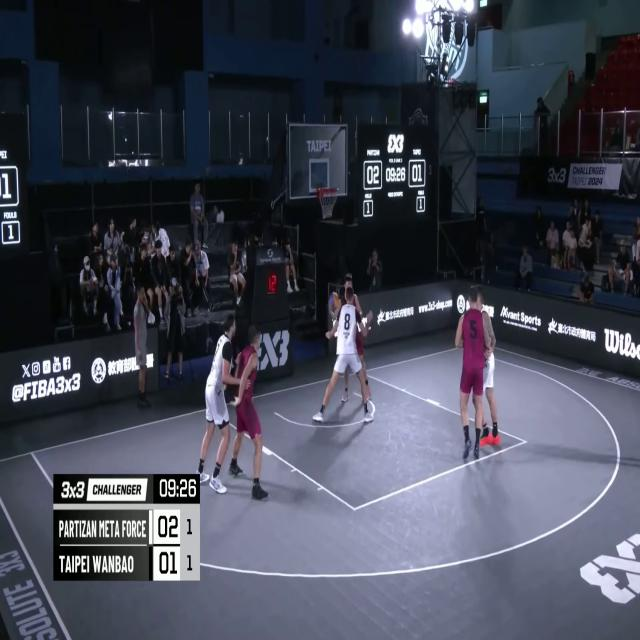ball: (327, 290, 344, 316)
hoop: (316, 182, 340, 224)
player: (194, 312, 246, 496), (310, 283, 372, 429), (225, 324, 269, 502), (454, 289, 487, 462), (337, 272, 370, 402), (473, 288, 499, 447)
